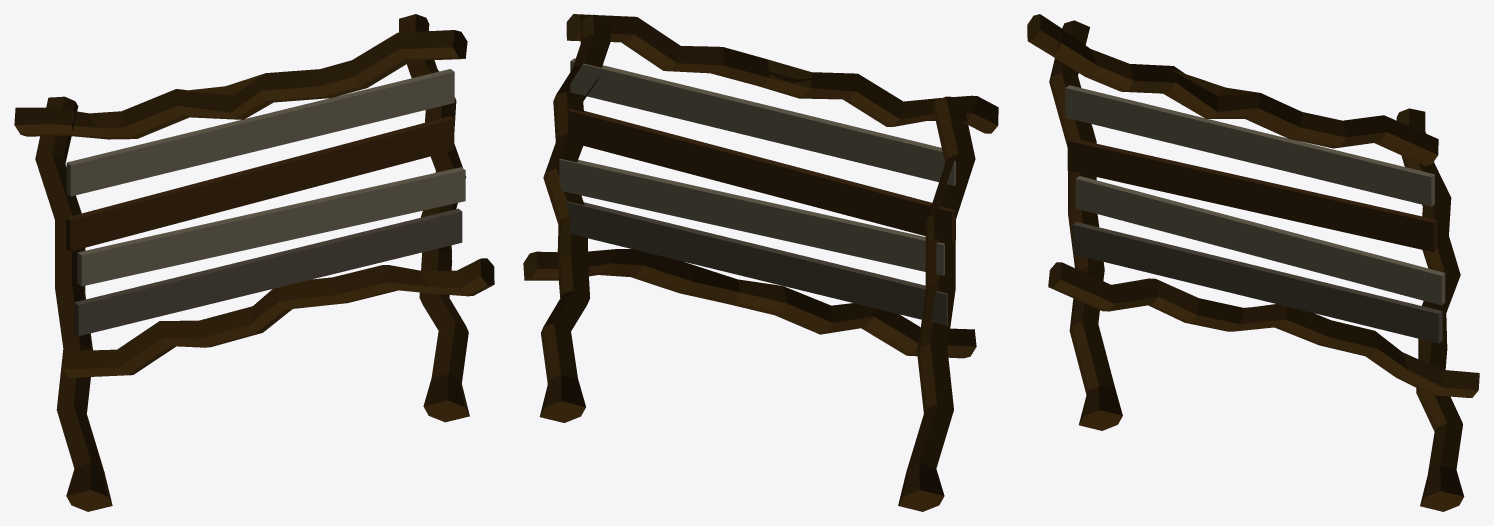
File: questLog.fbx
3 views of the same model, side by side, from view 1: azimuth 30°, elevation 25°; view 2: azimuth 150°, elevation 25°; view 3: azimuth 330°, elevation 25° (orthographic). The views are drawn at different scales.
Parts seen in each view (by area): view 1: Cube.007, Cube.005, Cube, Cube.006, Cube.004, Cube.003, Cube.001, Cube.002; view 2: Cube.005, Cube.004, Cube.006, Cube, Cube.003, Cube.001, Cube.007, Cube.002; view 3: Cube.007, Cube.004, Cube, Cube.005, Cube.006, Cube.003, Cube.002, Cube.001.
Part boxes in pixels (x1,y1,x2,y2): Cube.007: [14, 30, 467, 139]; Cube.005: [66, 116, 454, 251]; Cube: [74, 208, 462, 336]; Cube.006: [66, 69, 454, 196]; Cube.004: [77, 167, 465, 286]; Cube.003: [62, 258, 494, 377]; Cube.001: [35, 96, 112, 511]; Cube.002: [399, 14, 469, 422]; Cube.005: [568, 109, 955, 242]; Cube.004: [559, 159, 944, 275]; Cube.006: [570, 58, 955, 185]; Cube: [565, 201, 947, 325]; Cube.003: [523, 249, 976, 358]; Cube.001: [898, 96, 975, 511]; Cube.007: [566, 14, 998, 133]; Cube.002: [539, 14, 610, 422]; Cube.007: [1027, 14, 1438, 165]; Cube.004: [1075, 176, 1445, 305]; Cube: [1073, 222, 1442, 343]; Cube.005: [1067, 138, 1437, 252]; Cube.006: [1065, 85, 1434, 206]; Cube.003: [1048, 262, 1479, 397]; Cube.002: [1396, 108, 1464, 511]; Cube.001: [1049, 20, 1122, 430].
Size of the model in its own units: 499 by 421 by 65.37.
